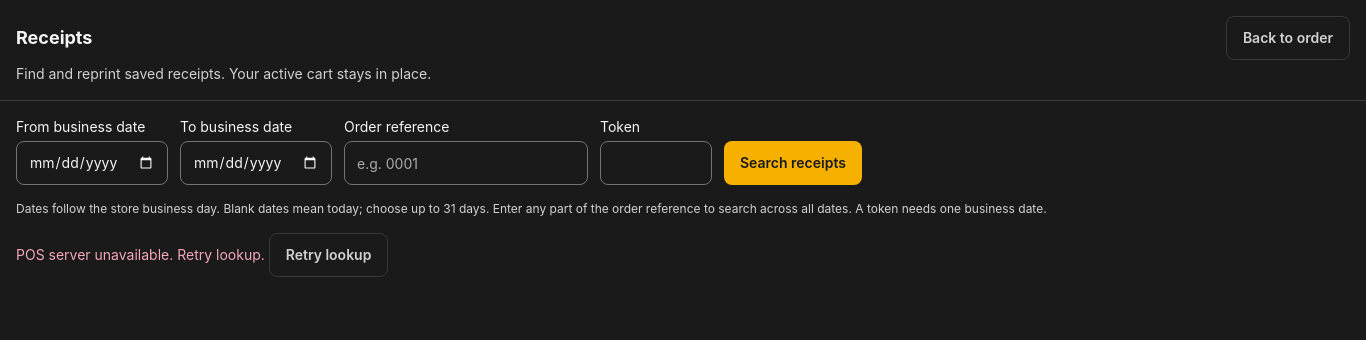
Test case: cashier receipt search › shows a retryable server error without presenting cached history as complete
Expected: the message shows "POS server unavailable", [16,246,265,263]
Click the button "Retry lookup".
click(329, 255)  # box [269,233,388,277]
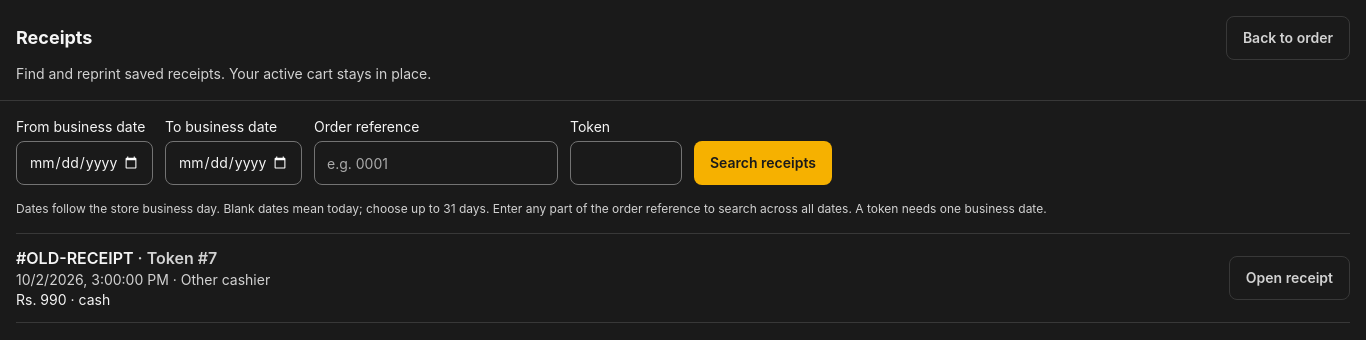
Expected: the text "#OLD-RECEIPT" is shown, [16,248,134,268]
